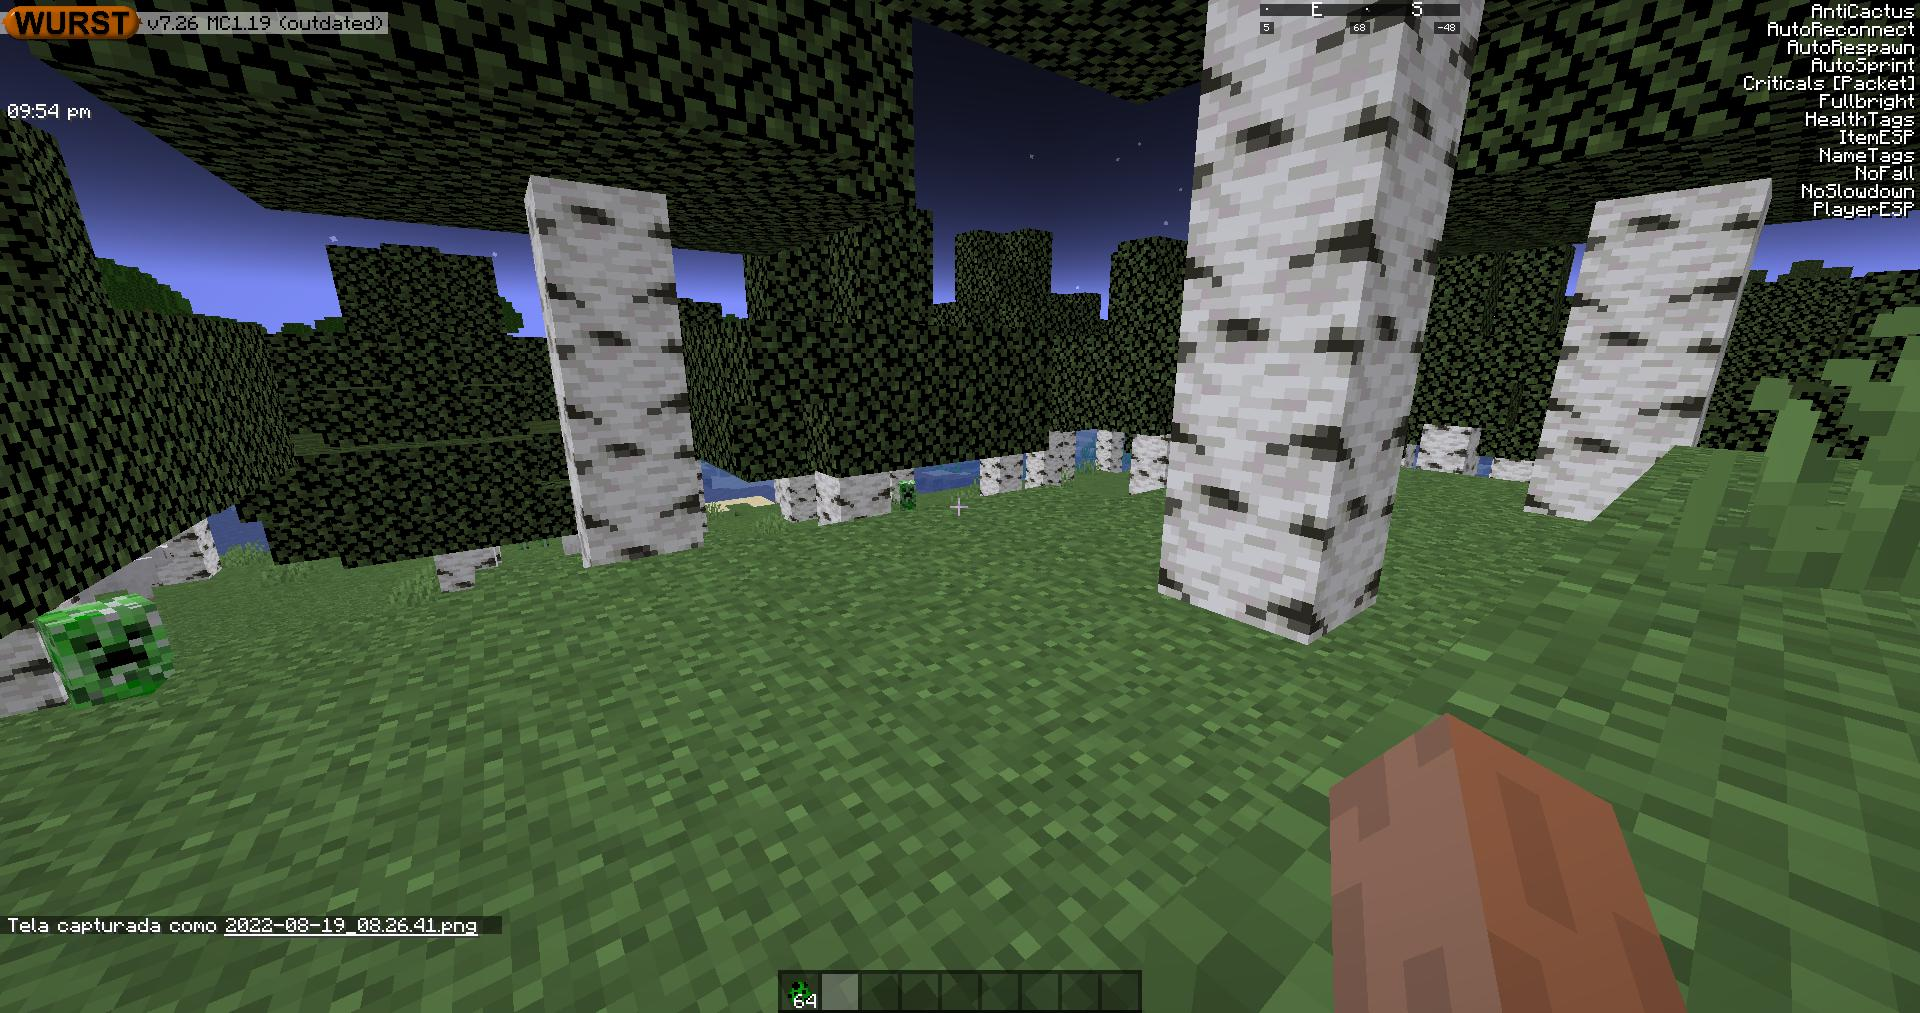creeper: (18, 603, 185, 702), (891, 480, 924, 509)
